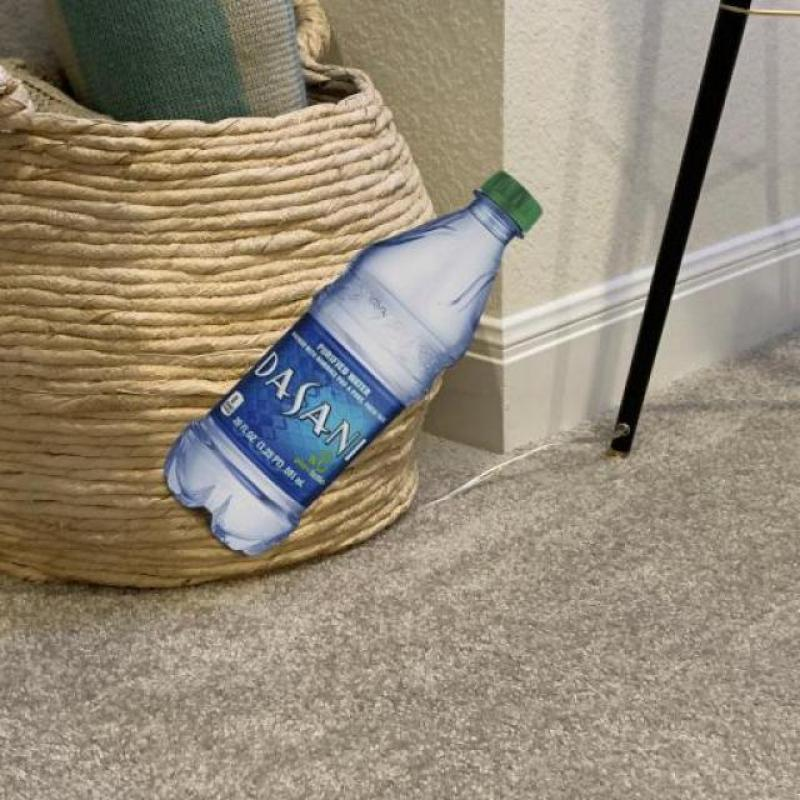botella: (158, 168, 544, 554)
